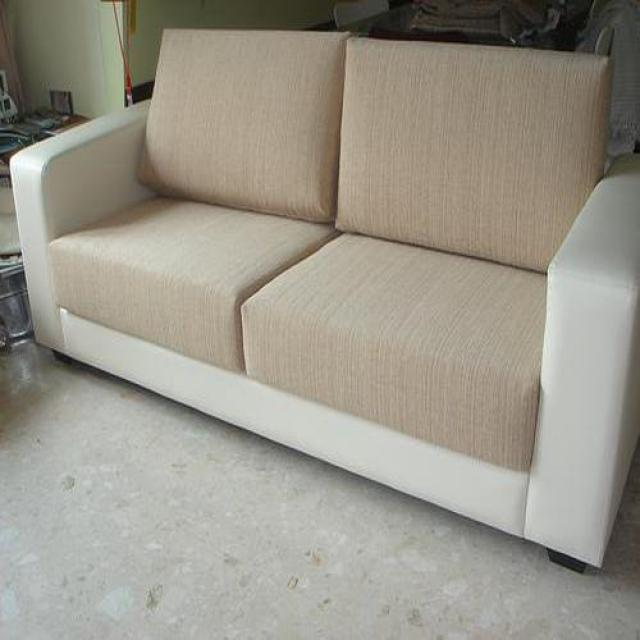sofa: (9, 29, 640, 568)
